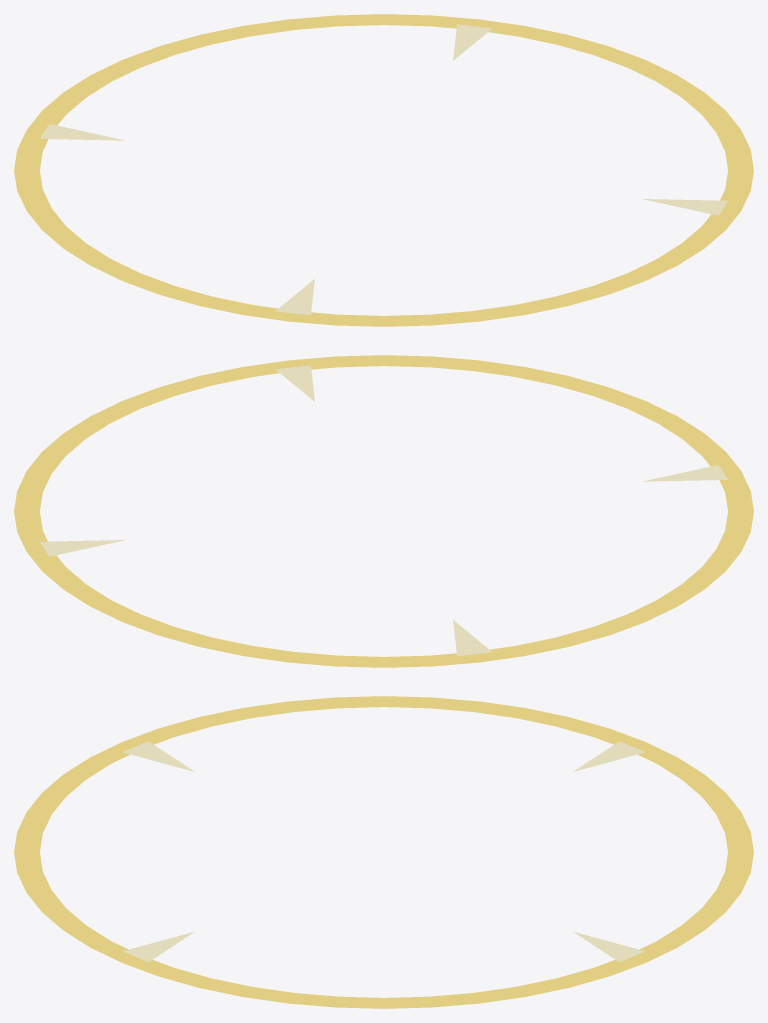
The model's file is crusade_hammer_mark.glb.
3 renders of one model, top to bottom at view 1: azimuth 30°, elevation 25°; view 2: azimuth 150°, elevation 25°; view 3: azimuth 270°, elevation 25°, orthographic.
Parts seen in each view (by area): view 1: crusade_hammer_mark; view 2: crusade_hammer_mark; view 3: crusade_hammer_mark.
Part boxes in pixels (box(x1,y1,x2,y2)): crusade_hammer_mark: box(14, 14, 753, 326); crusade_hammer_mark: box(14, 355, 753, 667); crusade_hammer_mark: box(14, 696, 753, 1008).
Size of the model in its own units: 2 by 0.002 by 2.
1 material, 1 textured.
